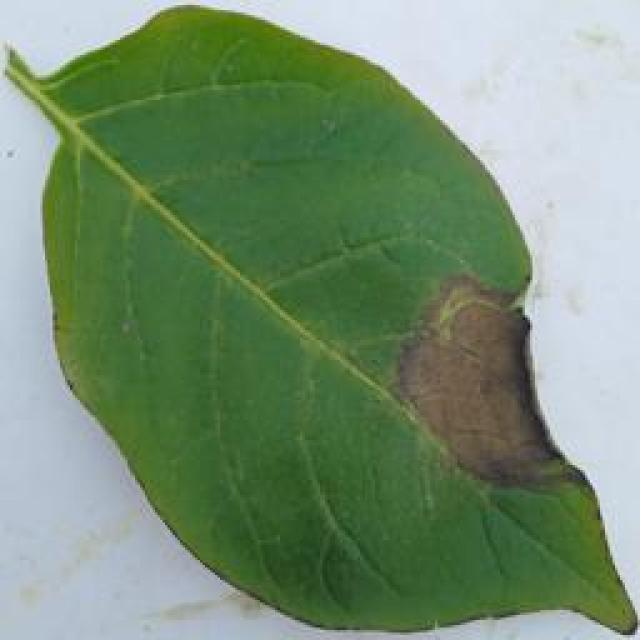Potato_Late_Blight: (9, 18, 640, 640)
